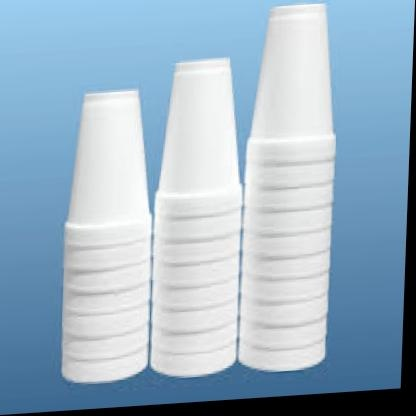trash: (62, 4, 334, 381), (240, 4, 334, 370), (151, 58, 240, 376), (62, 90, 150, 382)
